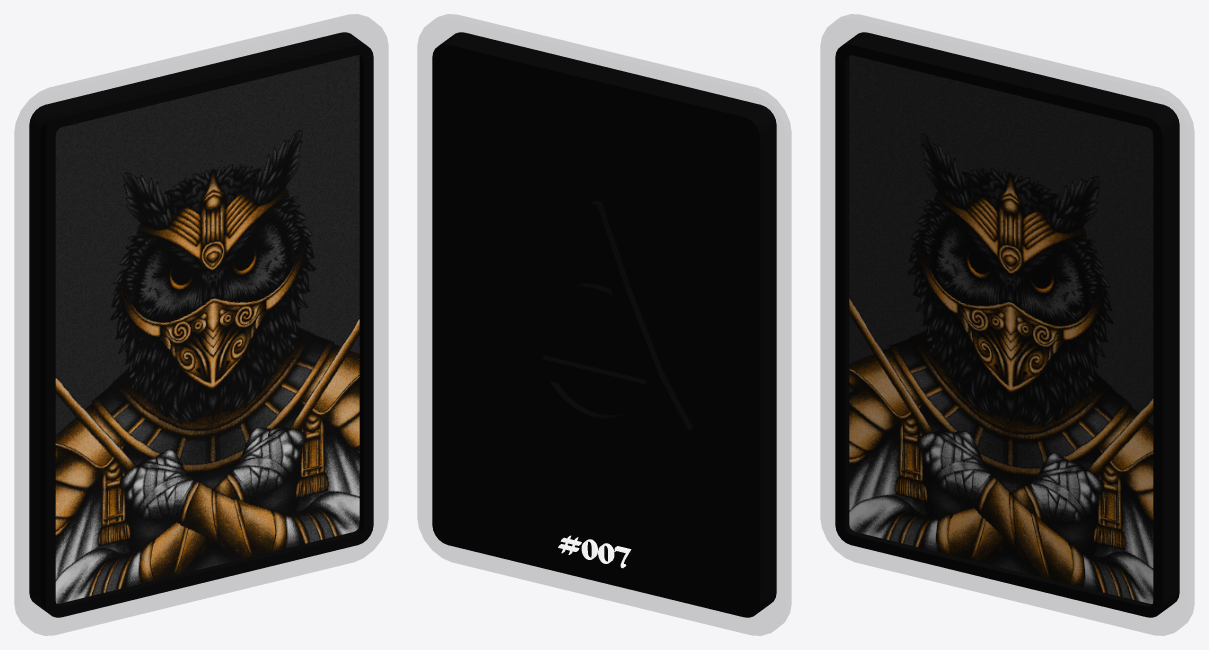
3 views of the same model, side by side, from view 1: azimuth 30°, elevation 25°; view 2: azimuth 150°, elevation 25°; view 3: azimuth 330°, elevation 25° (orthographic).
Parts seen in each view (by area): view 1: Card.147, CardBorder.147; view 2: Card.147, CardBorder.147, Площина.040, Текст; view 3: Card.147, CardBorder.147.
Boxes of the visible parts, <box> form: Card.147: <box>29,32,373,617</box>; CardBorder.147: <box>15,14,387,635</box>; Card.147: <box>432,32,776,617</box>; CardBorder.147: <box>418,14,790,635</box>; Площина.040: <box>500,200,692,436</box>; Текст: <box>558,535,631,568</box>; Card.147: <box>835,32,1179,617</box>; CardBorder.147: <box>821,14,1193,635</box>.
Size of the model in its own units: 1.1 by 1.55 by 0.1091.
5 materials, 1 textured.
